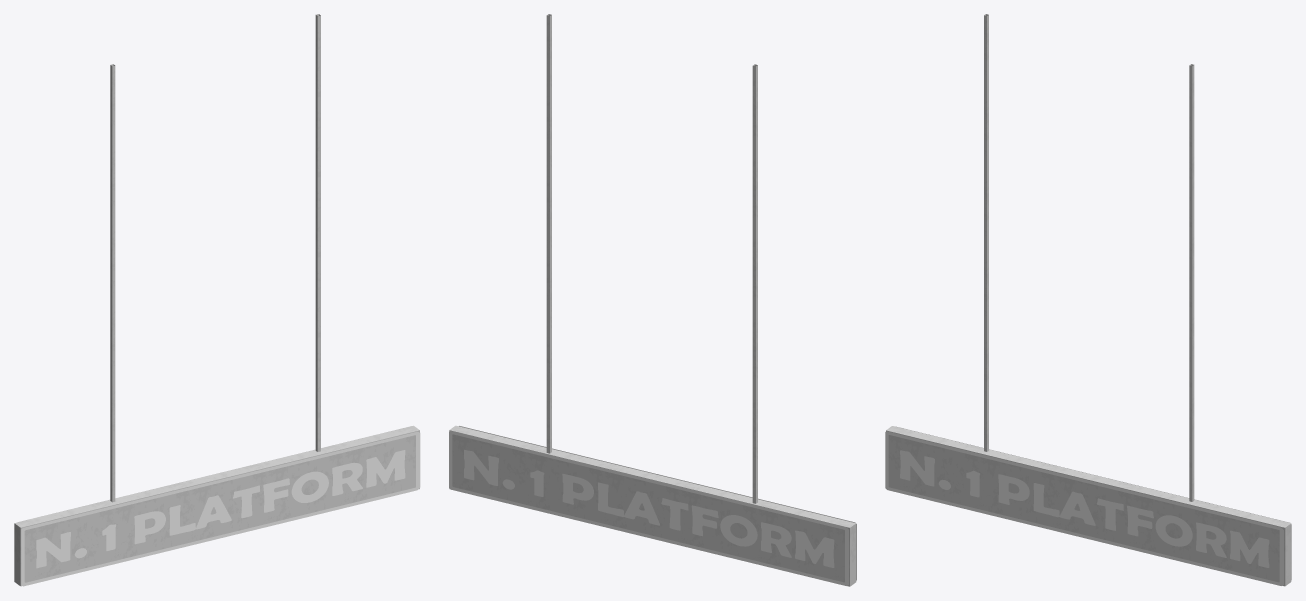
Rendered from Sign_A.fbx.
3 renders of one model, left to right at view 1: azimuth 30°, elevation 25°; view 2: azimuth 150°, elevation 25°; view 3: azimuth 330°, elevation 25°, orthographic.
Parts seen in each view (by area): view 1: Sign_A; view 2: Sign_A; view 3: Sign_A.
Part boxes in pixels (x1,y1,x2,y2): Sign_A: (14,14,420,586); Sign_A: (449,14,856,586); Sign_A: (885,14,1291,586).
Size of the model in its own units: 521 by 617 by 16.21.
Materials: 3 (3 with a texture image).
